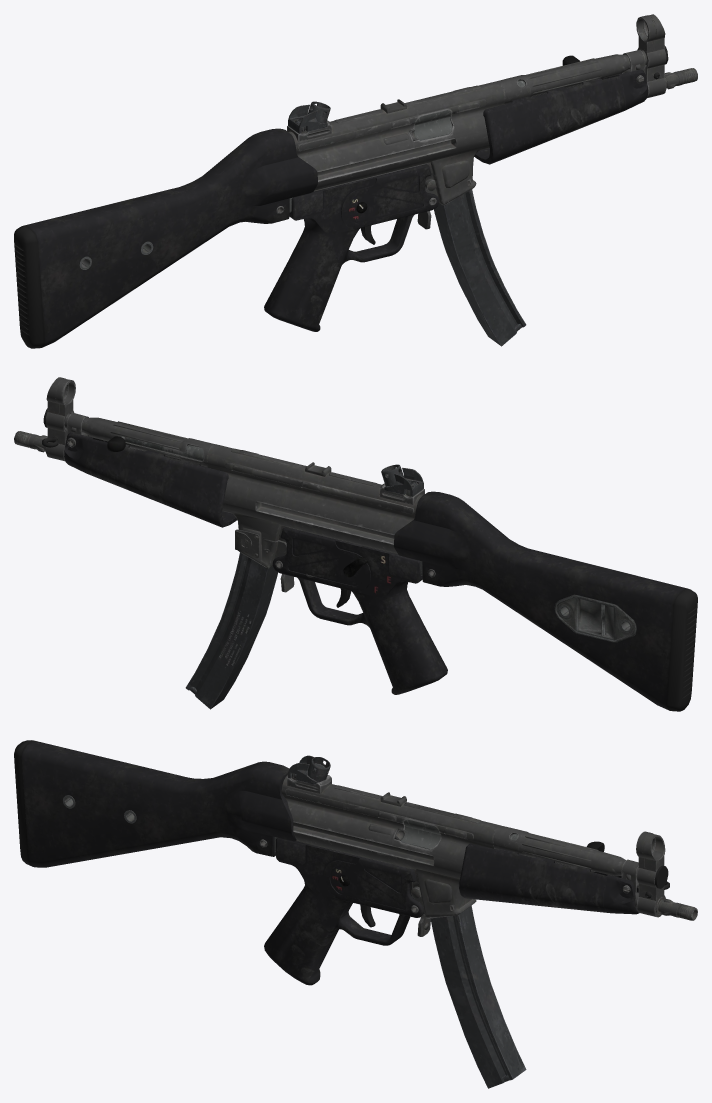
Rendered from hornet-5.glb.
The picture shows the model from 3 angles, top to bottom: view 1: azimuth 30°, elevation 25°; view 2: azimuth 150°, elevation 25°; view 3: azimuth 330°, elevation 25°; orthographic projection.
Parts seen in each view (by area): view 1: Buttstock_Buttstock_0, HandGuard_Grip_0, Body_Body_0, Reciever_Mag & Barrel_0, Attachements_Attachments_0; view 2: Buttstock_Buttstock_0, HandGuard_Grip_0, Body_Body_0, Reciever_Mag & Barrel_0, Attachements_Attachments_0; view 3: Buttstock_Buttstock_0, HandGuard_Grip_0, Body_Body_0, Reciever_Mag & Barrel_0, Attachements_Attachments_0.
Boxes of the visible parts, left/top/right/bottom form: Buttstock_Buttstock_0: left=14, top=128, right=317, bottom=348; HandGuard_Grip_0: left=264, top=69, right=647, bottom=331; Body_Body_0: left=287, top=81, right=505, bottom=205; Reciever_Mag & Barrel_0: left=434, top=14, right=666, bottom=346; Attachements_Attachments_0: left=79, top=45, right=697, bottom=269; Buttstock_Buttstock_0: left=394, top=491, right=697, bottom=711; HandGuard_Grip_0: left=64, top=432, right=447, bottom=694; Body_Body_0: left=206, top=444, right=424, bottom=568; Reciever_Mag & Barrel_0: left=45, top=377, right=277, bottom=709; Attachements_Attachments_0: left=14, top=408, right=636, bottom=642; Buttstock_Buttstock_0: left=14, top=740, right=296, bottom=867; HandGuard_Grip_0: left=264, top=837, right=639, bottom=985; Body_Body_0: left=281, top=773, right=500, bottom=918; Reciever_Mag & Barrel_0: left=430, top=825, right=665, bottom=1088; Attachements_Attachments_0: left=63, top=755, right=697, bottom=936.
Size of the model in its own units: 0.68 by 0.2761 by 0.0609.
5 materials, 5 textured.
